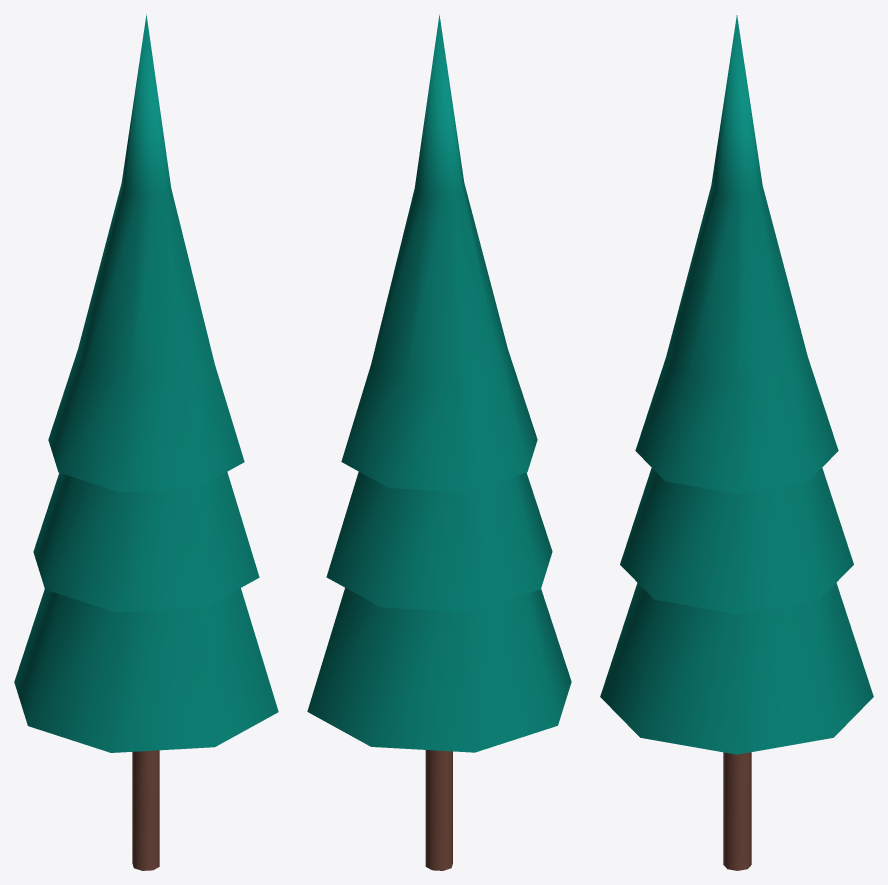
File: tree2.fbx
3 views of the same model, side by side, from view 1: azimuth 30°, elevation 25°; view 2: azimuth 150°, elevation 25°; view 3: azimuth 270°, elevation 25° (orthographic).
Visible parts, largest first — view 1: Firtree_2_3; view 2: Firtree_2_3; view 3: Firtree_2_3.
Part boxes in pixels (<box>): Firtree_2_3: <box>14,14,278,870</box>; Firtree_2_3: <box>307,14,571,870</box>; Firtree_2_3: <box>600,15,873,870</box>.
Size of the model in its own units: 201 by 688 by 201.
